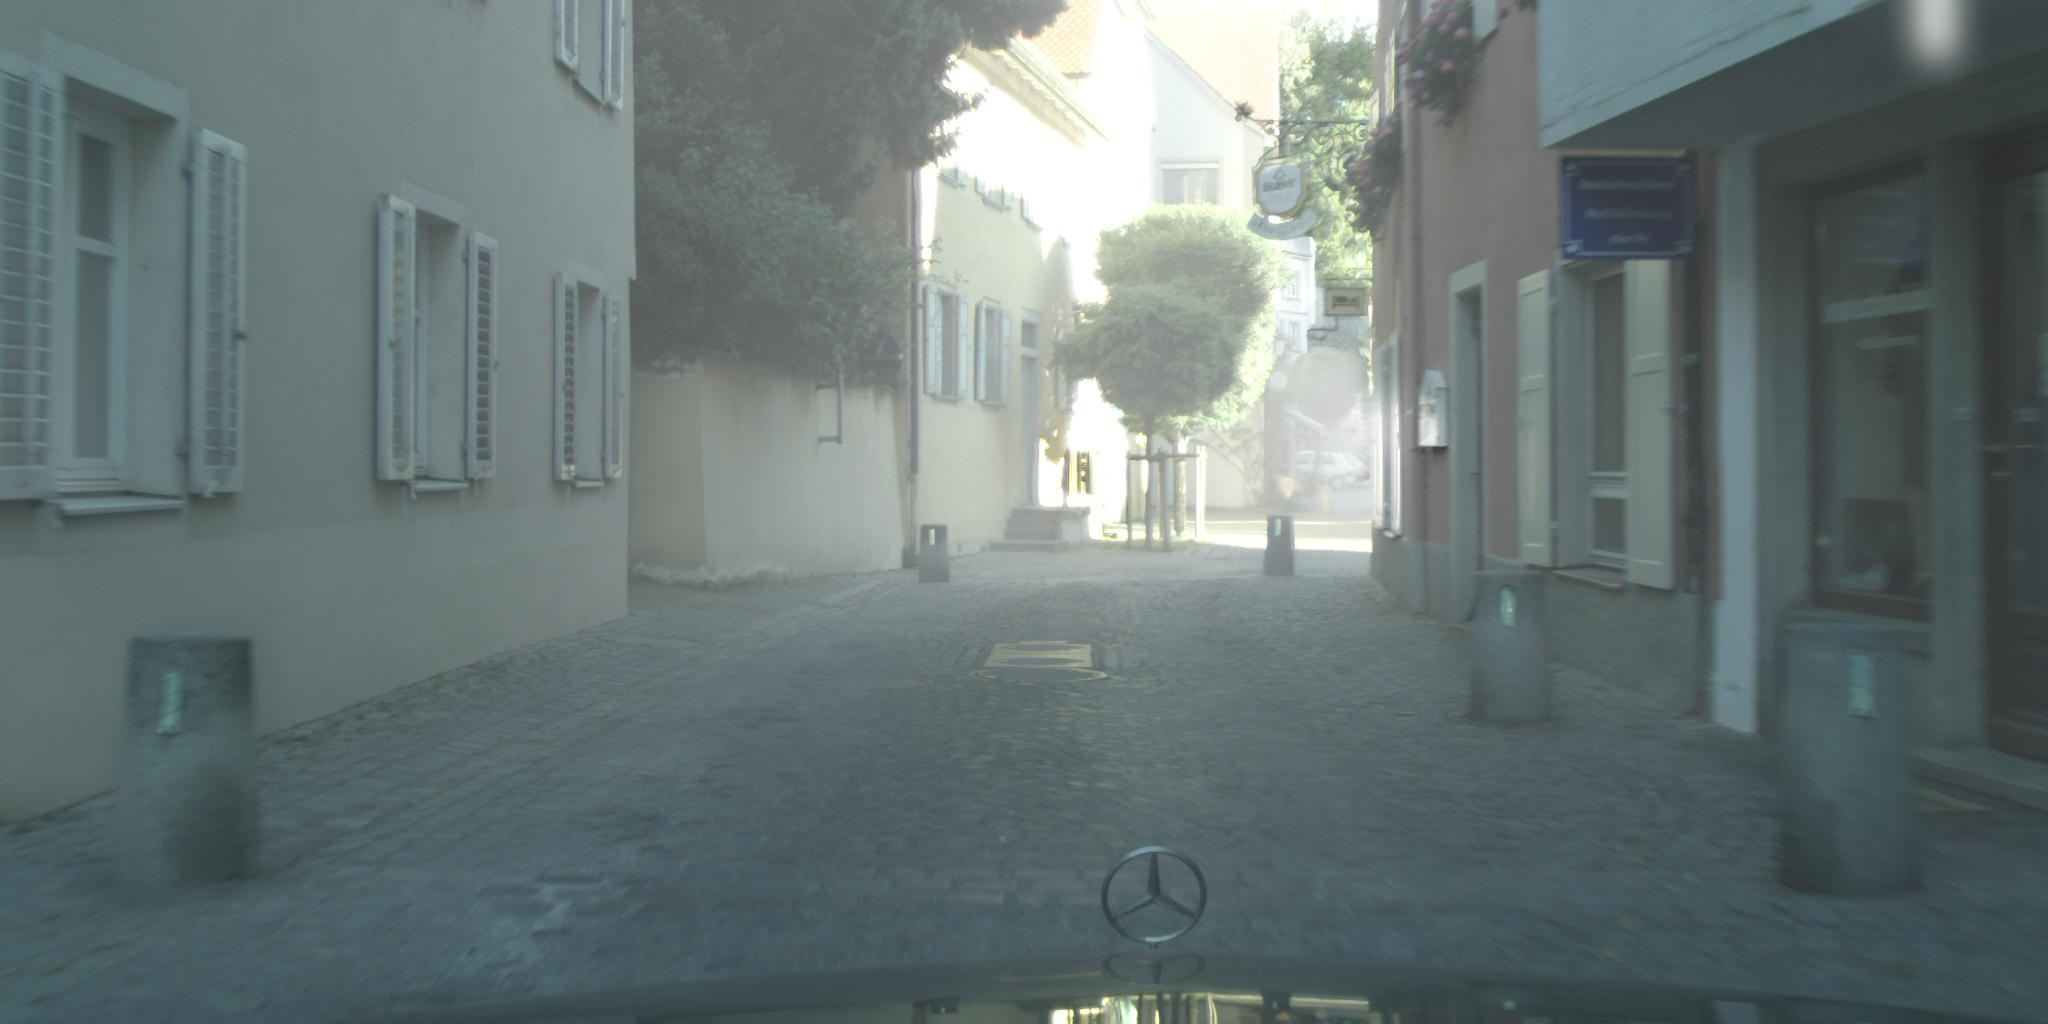car: (1296, 452, 1356, 491)
